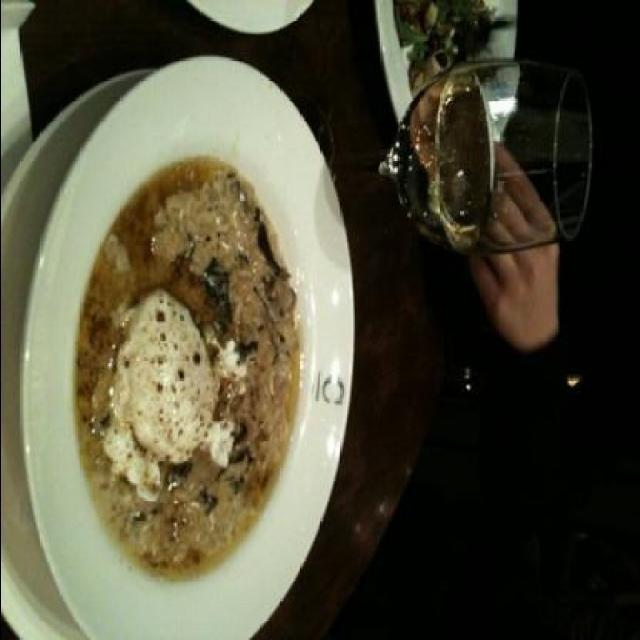Risotto: (72, 162, 314, 586)
